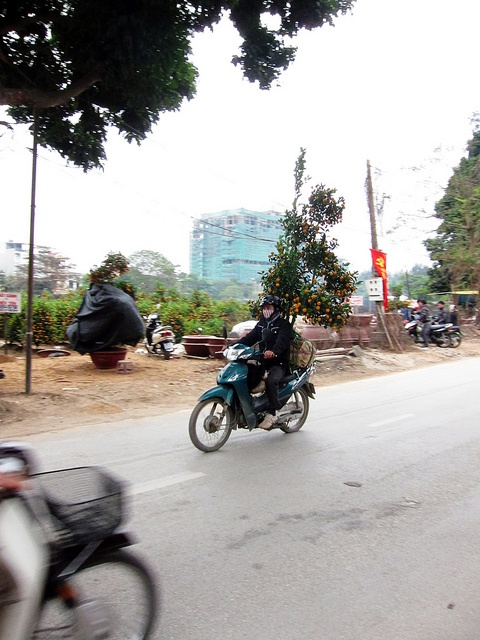non-vehicle: (0, 439, 161, 640), (178, 319, 320, 451), (143, 311, 178, 360), (403, 316, 453, 347), (449, 325, 462, 347)
